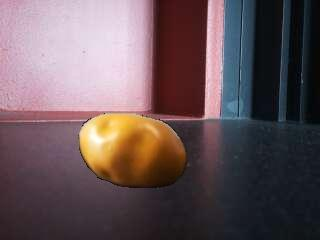Potato: (78, 114, 188, 190)
